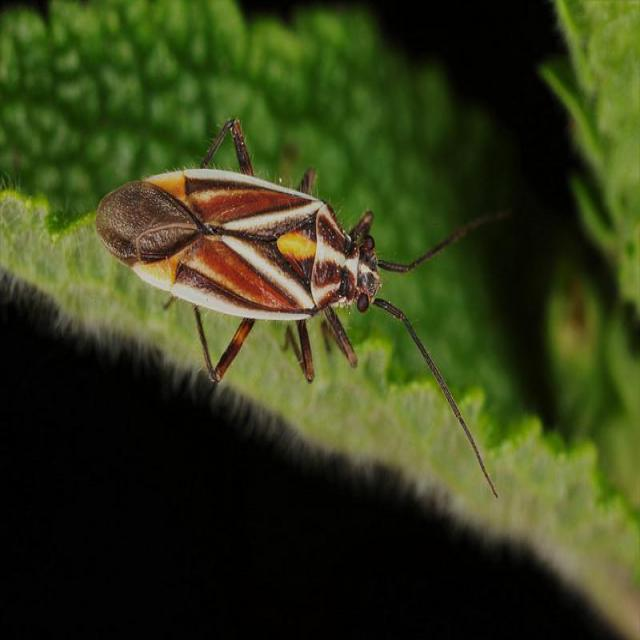Miridae-Adult-: (88, 110, 520, 463)
